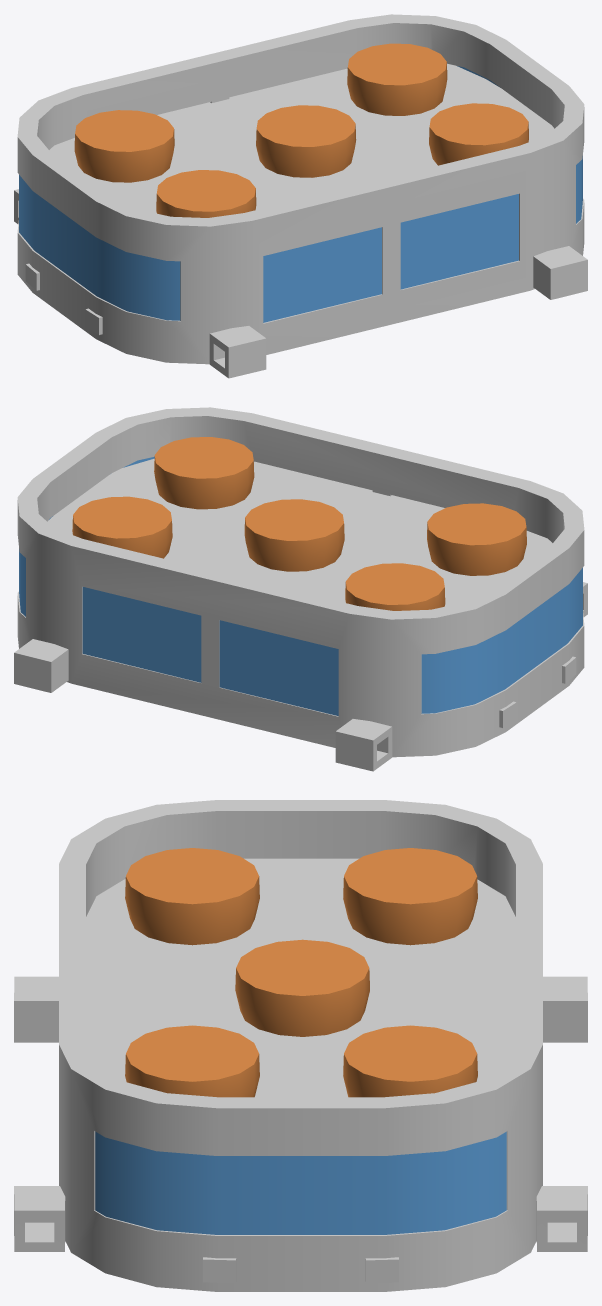
3 views of the same model, one above another, from view 1: azimuth 30°, elevation 25°; view 2: azimuth 150°, elevation 25°; view 3: azimuth 270°, elevation 25° (orthographic). The views are drawn at different scales.
Parts seen in each view (by area): view 1: Cube.038; view 2: Cube.038; view 3: Cube.038.
Boxes of the visible parts, bbox=[...] form: Cube.038: bbox=[14, 14, 587, 378]; Cube.038: bbox=[14, 407, 587, 771]; Cube.038: bbox=[14, 800, 587, 1291].
Size of the model in its own units: 20.99 by 5.76 by 16.29.
